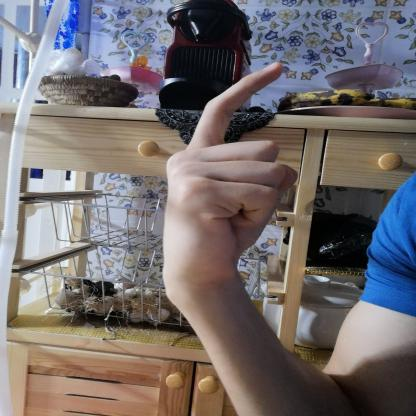RAA: (143, 51, 308, 301)
